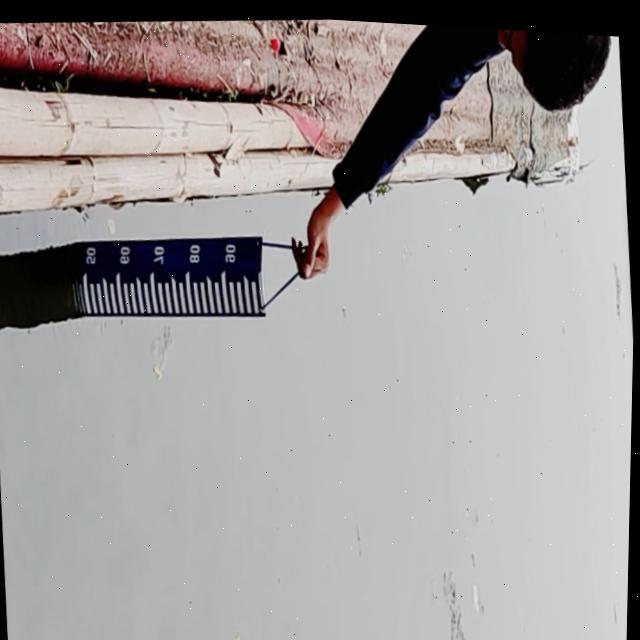water-meter: (51, 199, 284, 346)
